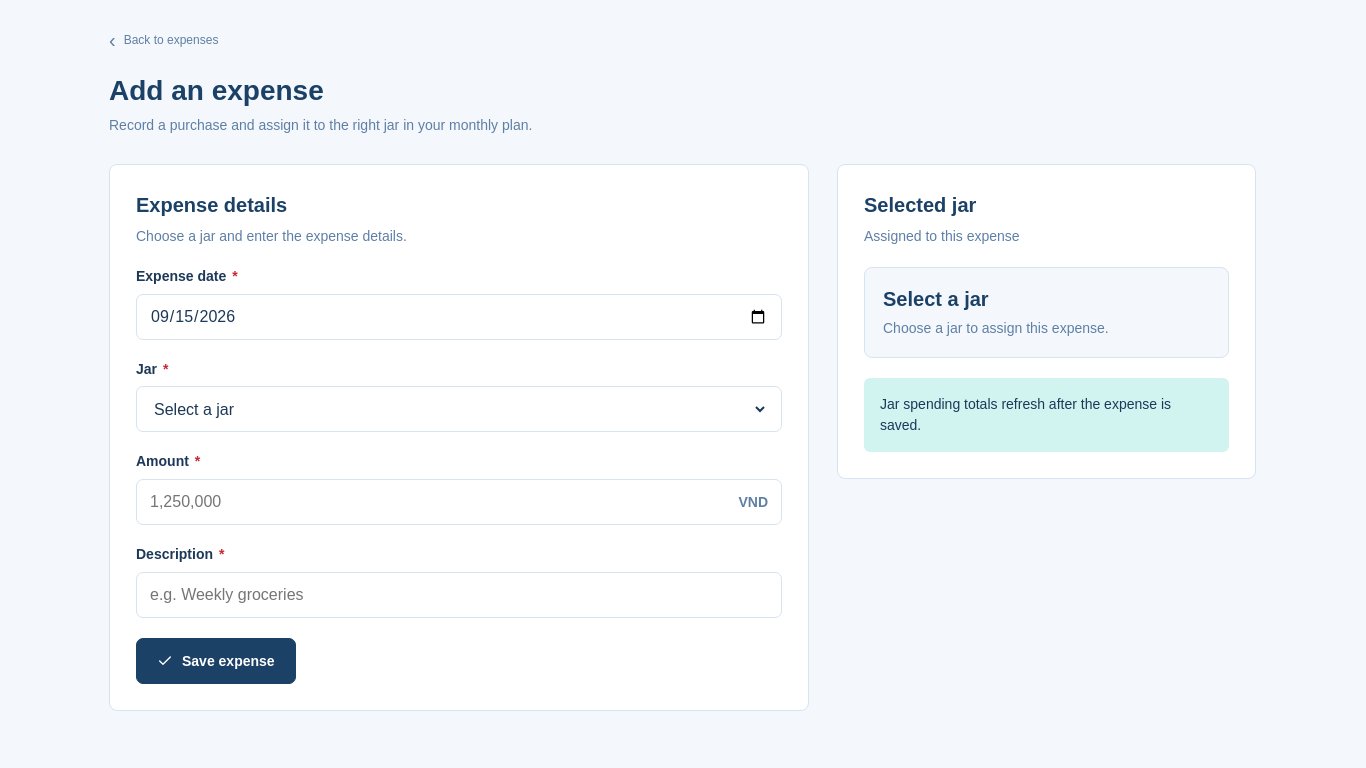
Test: AddExpensePageComponent › month changes (AC1, AC5, AC6, TC_F3_001, TC_F3_007) › ignores a late answer for the month the user already left
In the date field with id "expense-date": (459, 317) [150,296,768,338], type "2026-10-05"
Wait 300 ms
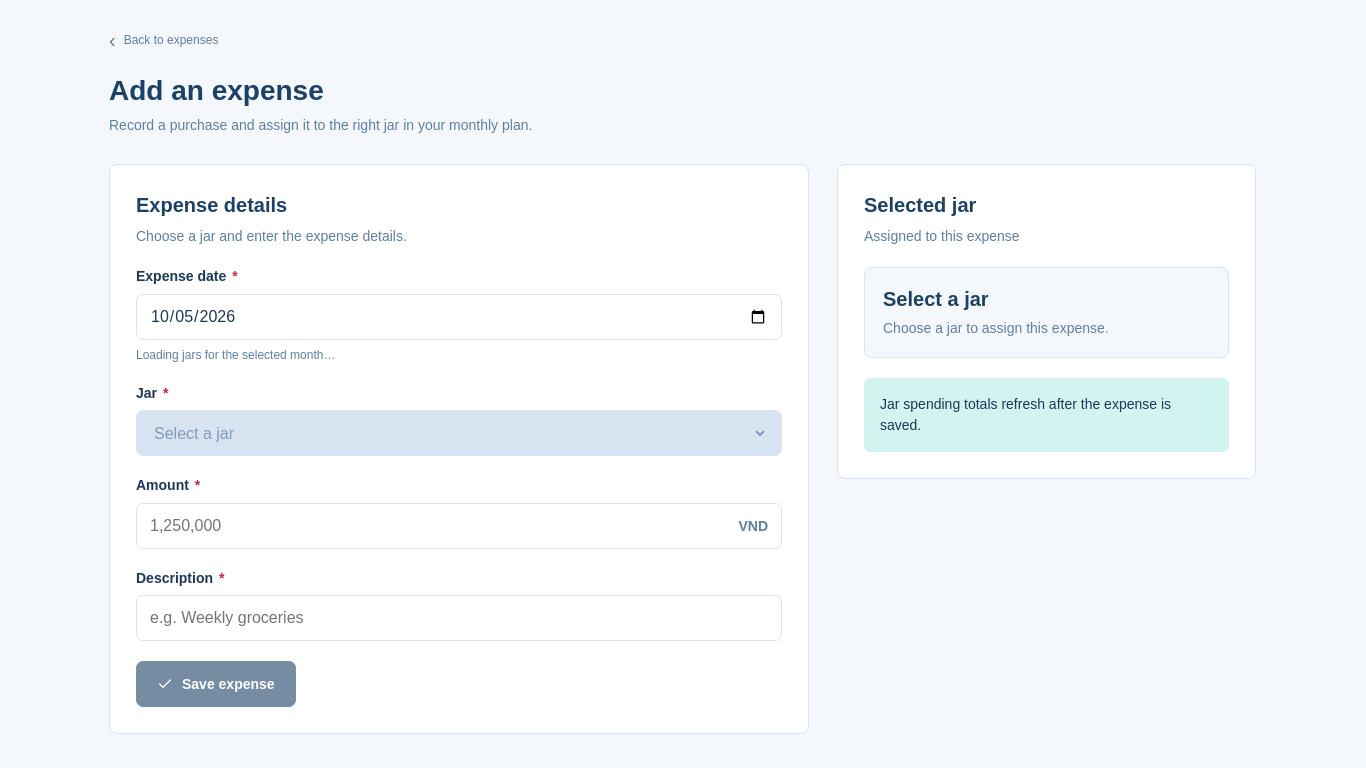
In the date field with id "expense-date": (459, 317) [150,296,768,338], type "2026-09-20"
Wait 300 ms
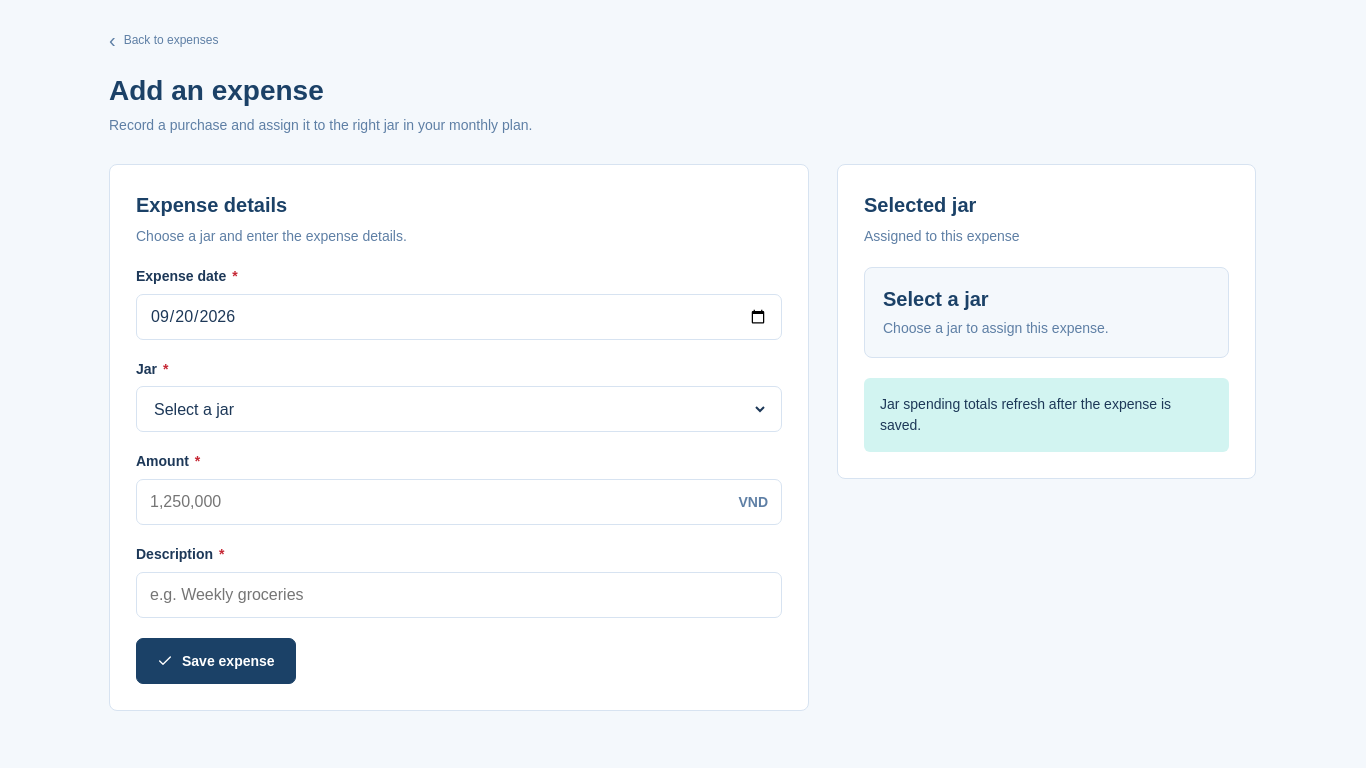
Select "Food · 20%" in the dropdown with id "expense-jar": (459, 409) [150,388,768,430]
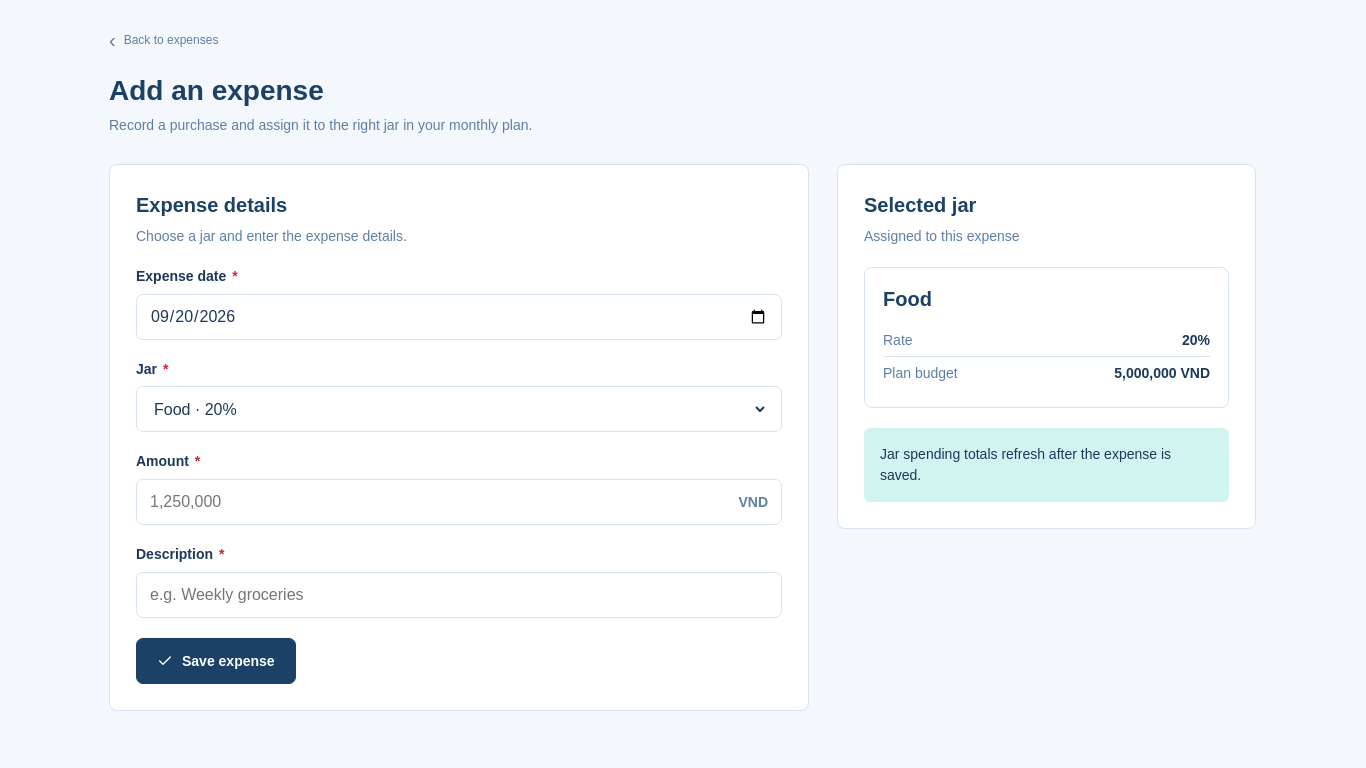
Expected: the text "5,000,000 VND" is shown, [1114,365,1210,381]
